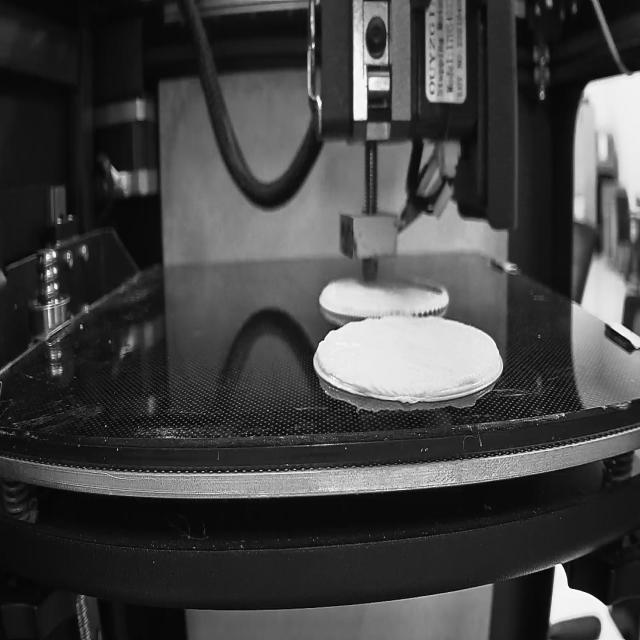over_extrusion: (315, 339, 333, 382)
